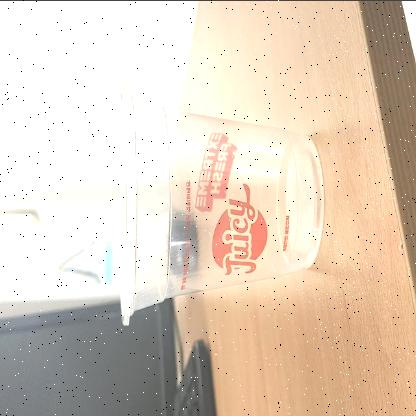Others: (118, 80, 324, 326)
